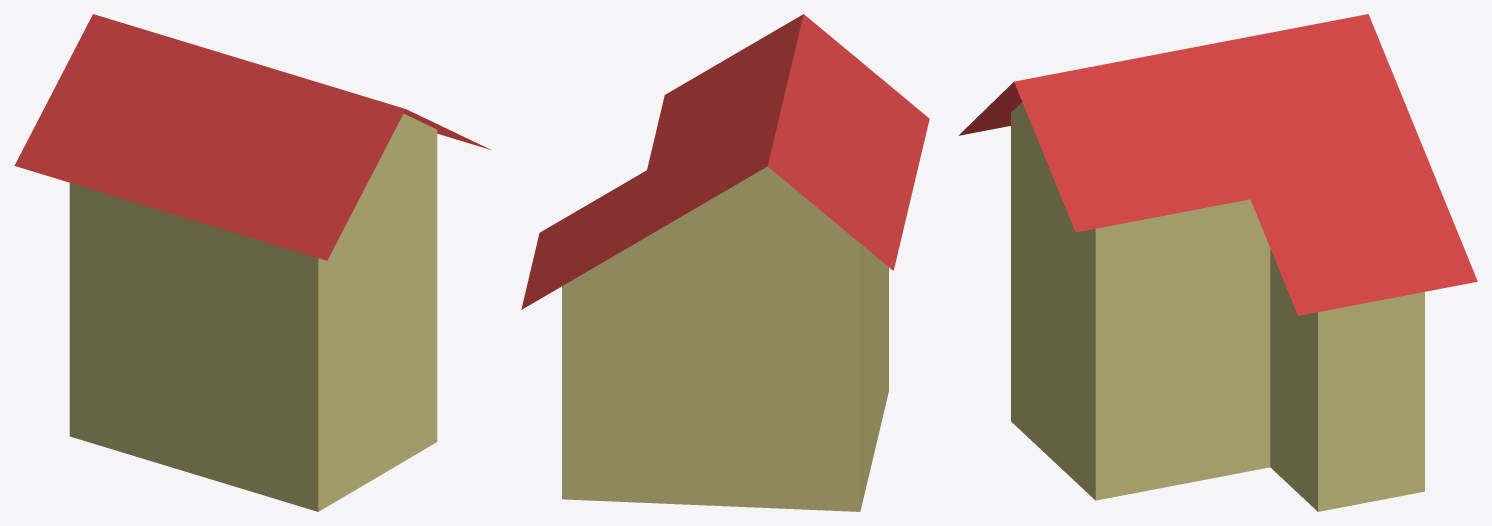
3 renders of one model, left to right at view 1: azimuth 30°, elevation 25°; view 2: azimuth 150°, elevation 25°; view 3: azimuth 270°, elevation 25°, orthographic. The views are drawn at different scales.
Bounding box in the file's own units: 8.41 × 9.77 × 7.96.
